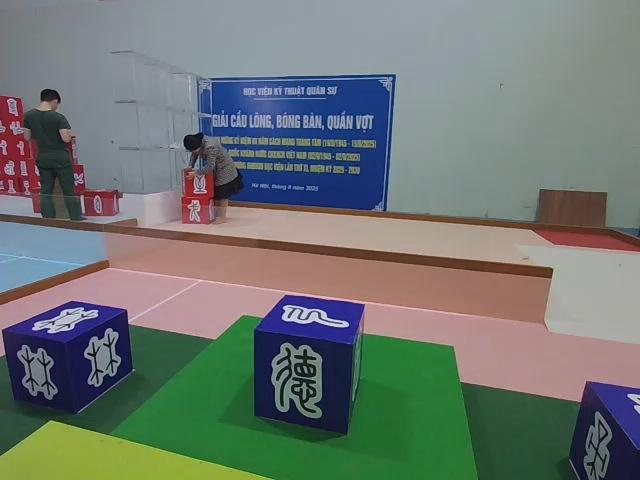R2 Fake Blue: (256, 295, 369, 439)
R2 Real Blue: (2, 298, 134, 418), (569, 383, 640, 480)
